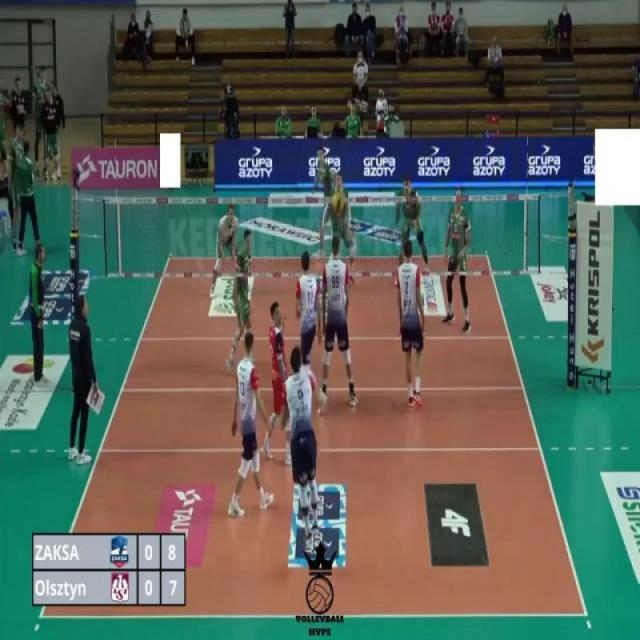volleyball: (330, 189, 345, 217)
